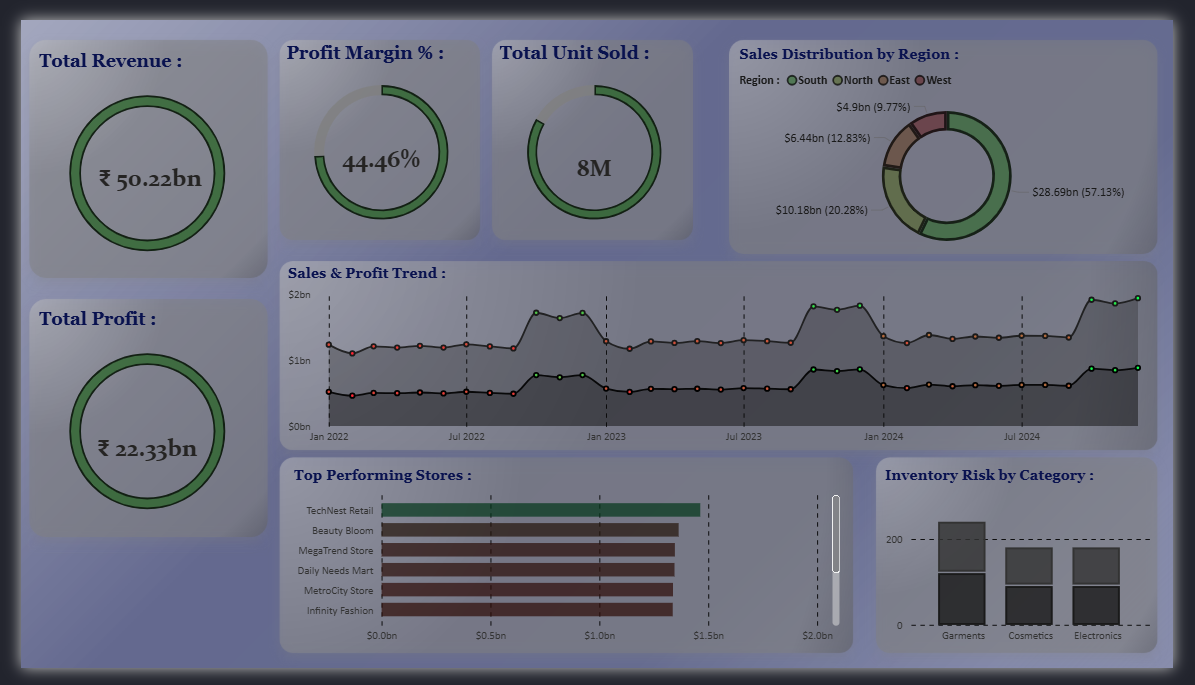

The dashboard page shown, as its layout file describes it:
{"tool":"powerbi","page":{"name":"Executive KPI & Strategic Insights :-","canvas":[1280,720],"ordinal":1},"visuals":[{"type":"actionButton","box":[23.9,22.8,79.7,79.7],"z":0,"group":"g3"},{"type":"group","id":"g1","title":"All Visuals ","box":[291.5,28,974,672],"z":0},{"type":"donutChart","title":"Sales Distribution by Region :","fields":{"Category":["dim_stores.region"],"Y":["MyMeasure.Total Sales"]},"box":[793.5,28,470,242],"z":0,"group":"g1"},{"type":"card","fields":{"Values":["MyMeasure.Profit Margin %"]},"box":[335,113.3,130,80],"z":0,"group":"g7"},{"type":"card","fields":{"Values":["MyMeasure.Total Units Sold"]},"box":[572.3,123.3,130,80],"z":0,"group":"g8"},{"type":"card","fields":{"Values":["MyMeasure.Total Sales"]},"box":[69.3,129.3,150,90],"z":0,"group":"g5"},{"type":"group","id":"g2","title":"Profit Visual ","box":[15.3,320.6,250,250],"z":0,"group":"g4"},{"type":"card","fields":{"Values":["MyMeasure.Total Profit"]},"box":[65.3,430.6,150,90],"z":0,"group":"g2"},{"type":"actionButton","box":[108.5,619.7,79.7,79.7],"z":0,"group":"g6"},{"type":"group","id":"g3","title":"Filter + Home Button","box":[23.9,22.8,80.2,191.9],"z":1000,"group":"g6"},{"type":"group","id":"g4","title":"KPIs","box":[15.3,25.3,732,545.3],"z":1000},{"type":"donutChart","title":"Profit Margin % :","fields":{"Category":["Total Sales Visual.Type"],"Y":["MyMeasure.Margin Donut Value"]},"box":[290,25.3,220,220],"z":1000,"group":"g7"},{"type":"donutChart","title":"Total Unit Sold :","fields":{"Category":["Total Sales Visual.Type"],"Y":["MyMeasure.Units Donut Value"]},"box":[527.3,25.3,220,220],"z":1000,"group":"g8"},{"type":"group","id":"g5","title":"Sales Visual","box":[15.3,33.3,250,250],"z":1000,"group":"g4"},{"type":"donutChart","title":"Total Revenue :","fields":{"Category":["Total Sales Visual.Type"],"Y":["MyMeasure.Donut Value"]},"box":[15.3,33.3,250,250],"z":1000,"group":"g5"},{"type":"actionButton","box":[24.4,135,79.7,79.7],"z":1000,"group":"g3"},{"type":"lineChart","title":"Sales & Profit Trend :","fields":{"Category":["dim_date.month_year.Variation.Date Hierarchy.Year","dim_date.month_year.Variation.Date Hierarchy.Month"],"Y":["MyMeasure.Total Sales","MyMeasure.Total Profit"]},"box":[291.5,272,974,208],"z":1000,"group":"g1"},{"type":"donutChart","title":"Total Profit :","fields":{"Category":["Total Sales Visual.Type"],"Y":["MyMeasure.Profit Donut Value"]},"box":[15.3,320.6,250,250],"z":1000,"group":"g2"},{"type":"group","id":"g6","title":"All Buttons ","box":[23.9,22.8,164.3,676.6],"z":2000},{"type":"group","id":"g7","title":"Profit Visual ","box":[290,25.3,220,220],"z":2000,"group":"g4"},{"type":"barChart","title":"Top Performing Stores :","fields":{"Category":["dim_stores.store_name"],"Y":["MyMeasure.Total Sales"]},"box":[297.5,496,616,204],"z":2000,"group":"g1"},{"type":"group","id":"g8","title":"Unit Sold Visual","box":[527.3,25.3,220,220],"z":3000,"group":"g4"},{"type":"columnChart","title":"Inventory Risk by Category :","fields":{"Category":["dim_products.category"],"Y":["MyMeasure.SKUs Below Reorder","MyMeasure.SKUs Critical Risk"]},"box":[955.9,491.6,304.2,208.2],"z":3000,"group":"g1"}]}

Visuals, with their boxes in screenshot pixels (x1, y1, x2, y2), scaled from the page's 1280x720 canvas onto the 1195x685 screenshot:
actionButton: select_region(22, 22, 97, 98)
"All Visuals " group: select_region(272, 27, 1181, 666)
"Sales Distribution by Region :" donutChart: select_region(741, 27, 1180, 257)
card - MyMeasure.Profit Margin %: select_region(313, 108, 434, 184)
card - MyMeasure.Total Units Sold: select_region(534, 117, 656, 193)
card - MyMeasure.Total Sales: select_region(65, 123, 205, 209)
"Profit Visual " group: select_region(14, 305, 248, 543)
card - MyMeasure.Total Profit: select_region(61, 410, 201, 495)
actionButton: select_region(101, 590, 176, 665)
"Filter + Home Button" group: select_region(22, 22, 97, 204)
"KPIs" group: select_region(14, 24, 698, 543)
"Profit Margin % :" donutChart: select_region(271, 24, 476, 233)
"Total Unit Sold :" donutChart: select_region(492, 24, 698, 233)
"Sales Visual" group: select_region(14, 32, 248, 270)
"Total Revenue :" donutChart: select_region(14, 32, 248, 270)
actionButton: select_region(23, 128, 97, 204)
"Sales & Profit Trend :" lineChart: select_region(272, 259, 1181, 457)
"Total Profit :" donutChart: select_region(14, 305, 248, 543)
"All Buttons " group: select_region(22, 22, 176, 665)
"Profit Visual " group: select_region(271, 24, 476, 233)
"Top Performing Stores :" barChart: select_region(278, 472, 853, 666)
"Unit Sold Visual" group: select_region(492, 24, 698, 233)
"Inventory Risk by Category :" columnChart: select_region(892, 468, 1176, 666)
